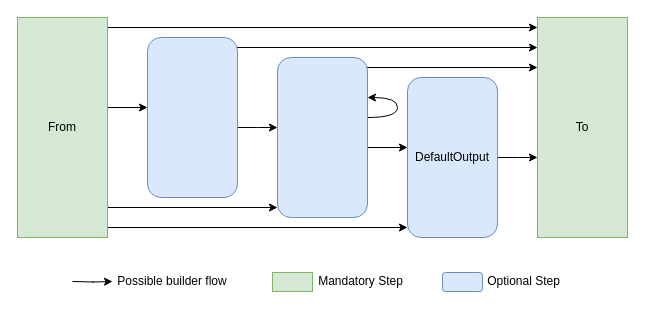
Image size: 645x309. Some labels were removed from this diagram. The shapes that lost their labels are listed below. From the top down, each one's centre as x and y in pixels, then its label:
At point 192,117: "DefaultInput".
At point 322,137: "Transformer".
